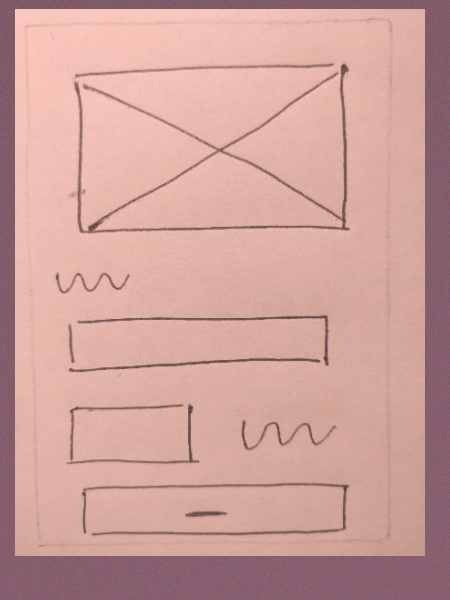button: (73, 478, 358, 540)
image: (66, 58, 358, 239)
text: (229, 407, 344, 461), (47, 261, 134, 302)
text_input: (54, 308, 342, 384), (60, 400, 204, 471)
